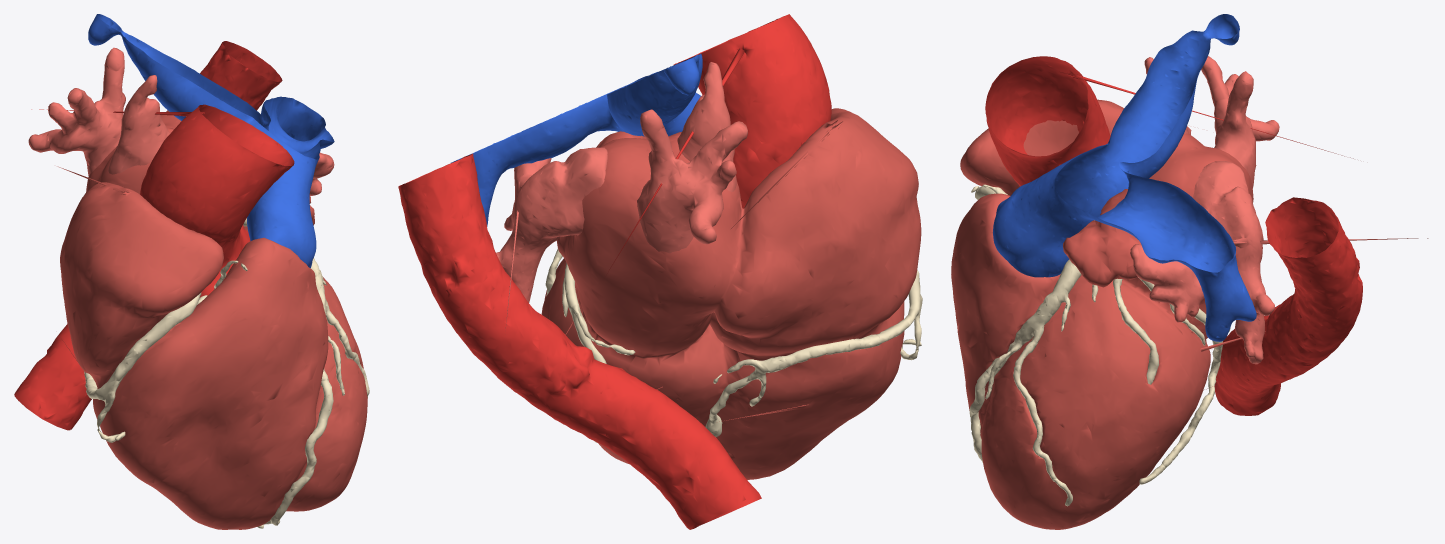
File: heart_113.glb
3 renders of one model, left to right at view 1: azimuth 30°, elevation 25°; view 2: azimuth 150°, elevation 25°; view 3: azimuth 270°, elevation 25°, orthographic. The views are drawn at different scales.
Visible parts, largest first — view 1: HeartWall, Aorta, PulmonaryArtery, PulmonaryVeins, CoronaryArteries; view 2: HeartWall, Aorta, PulmonaryVeins, PulmonaryArtery, CoronaryArteries; view 3: HeartWall, PulmonaryArtery, Aorta, PulmonaryVeins, CoronaryArteries.
Part boxes in pixels (<box>): HeartWall: <box>57,111,367,529</box>; Aorta: <box>14,41,294,430</box>; PulmonaryArtery: <box>88,14,334,267</box>; PulmonaryVeins: <box>28,47,334,203</box>; CoronaryArteries: <box>84,218,369,528</box>; HeartWall: <box>541,108,921,479</box>; Aorta: <box>398,14,831,529</box>; PulmonaryVeins: <box>496,62,747,328</box>; PulmonaryArtery: <box>451,53,702,226</box>; CoronaryArteries: <box>545,248,922,442</box>; HeartWall: <box>951,99,1265,529</box>; PulmonaryArtery: <box>993,14,1256,341</box>; Aorta: <box>985,56,1362,415</box>; PulmonaryVeins: <box>1130,56,1428,364</box>; CoronaryArteries: <box>969,184,1230,506</box>.
Size of the model in its own units: 0.1318 by 0.1819 by 0.1674.
